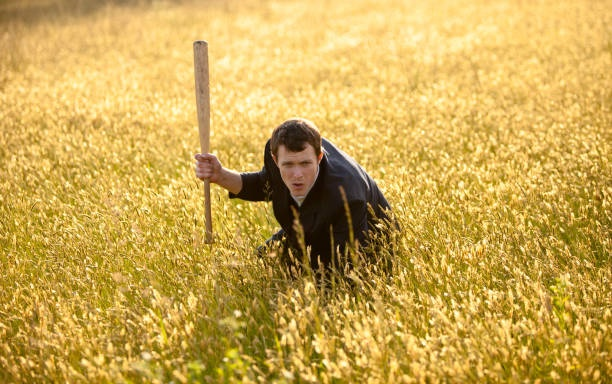bita: (192, 39, 219, 244)
